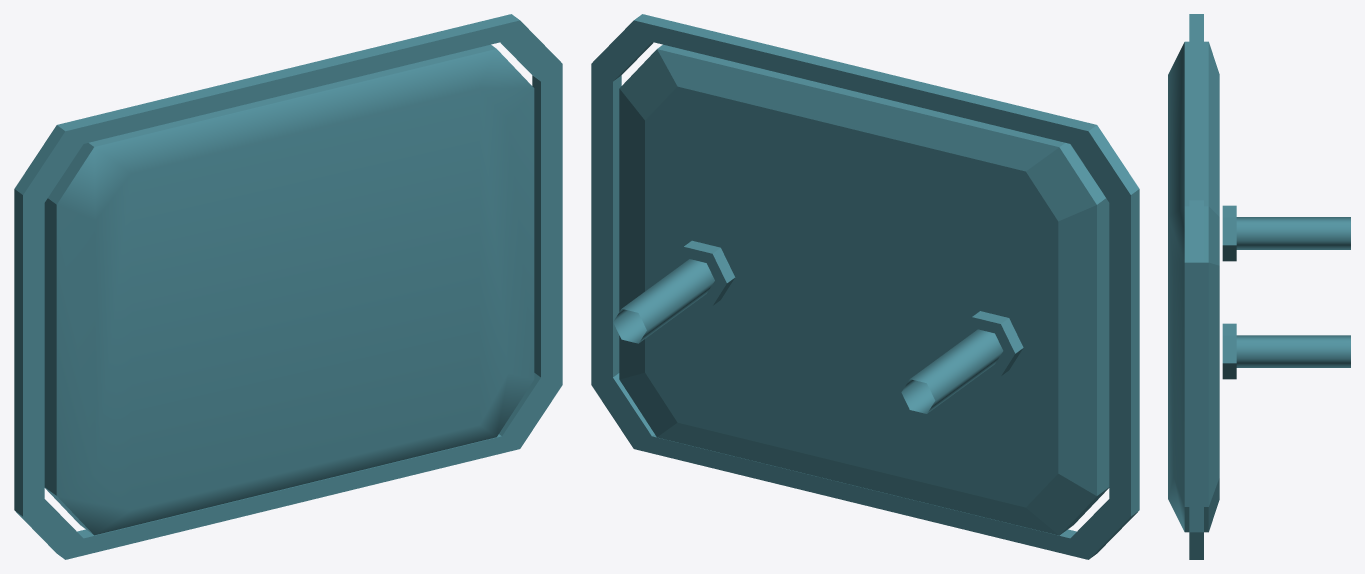
File: Solar Panel 1.fbx
3 renders of one model, left to right at view 1: azimuth 30°, elevation 25°; view 2: azimuth 150°, elevation 25°; view 3: azimuth 270°, elevation 25°, orthographic. The views are drawn at different scales.
Visible parts, largest first — view 1: SolarPanel_01; view 2: SolarPanel_01; view 3: SolarPanel_01.
Boxes of the visible parts, x1,y1,x2,y2 form: SolarPanel_01: (14,14,562,559); SolarPanel_01: (591,14,1139,559); SolarPanel_01: (1168,14,1350,559).
Size of the model in its own units: 12.22 by 9.28 by 4.27.
